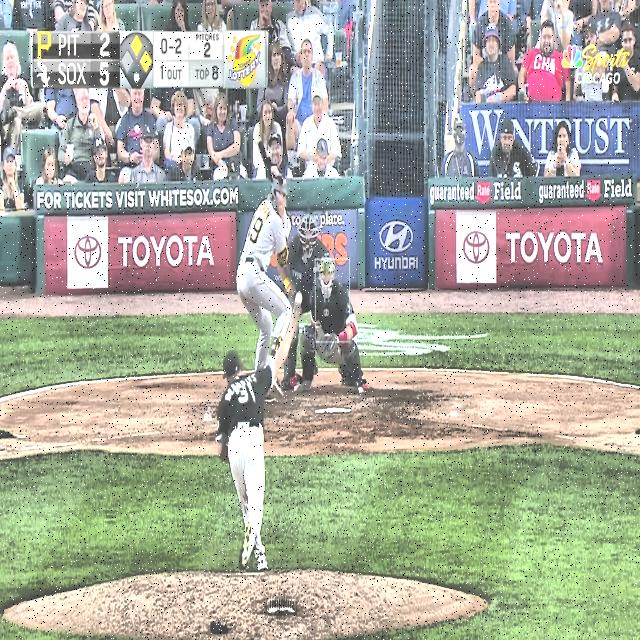baseball: (295, 291, 302, 305)
